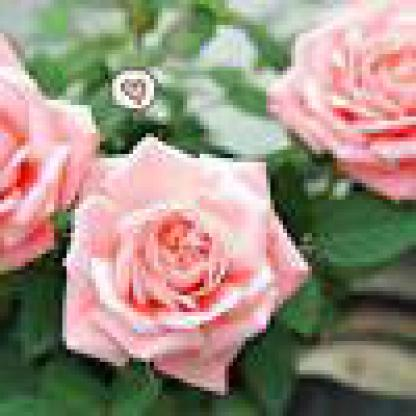Kupu-Kupu: (181, 92, 314, 166), (300, 155, 382, 264), (85, 127, 157, 245)
